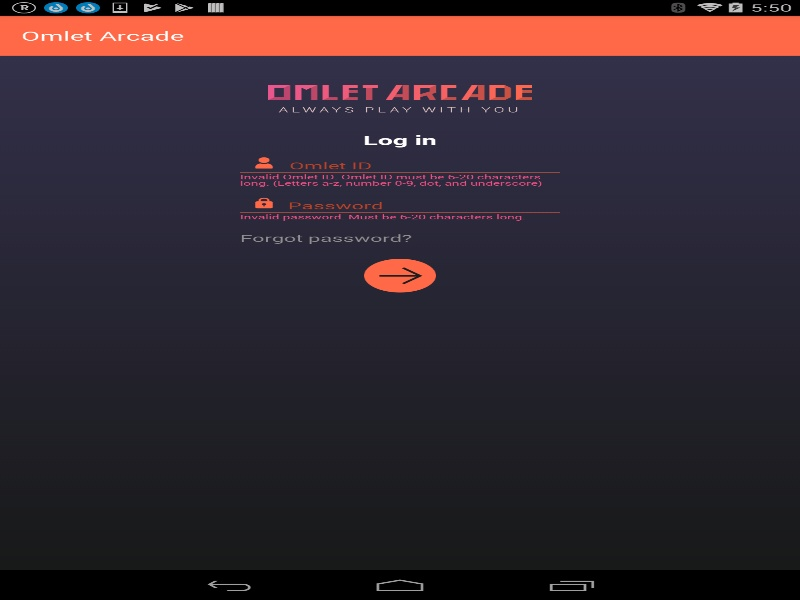Button: (364, 258, 436, 292)
Input: (288, 151, 557, 175), (288, 191, 554, 215)
